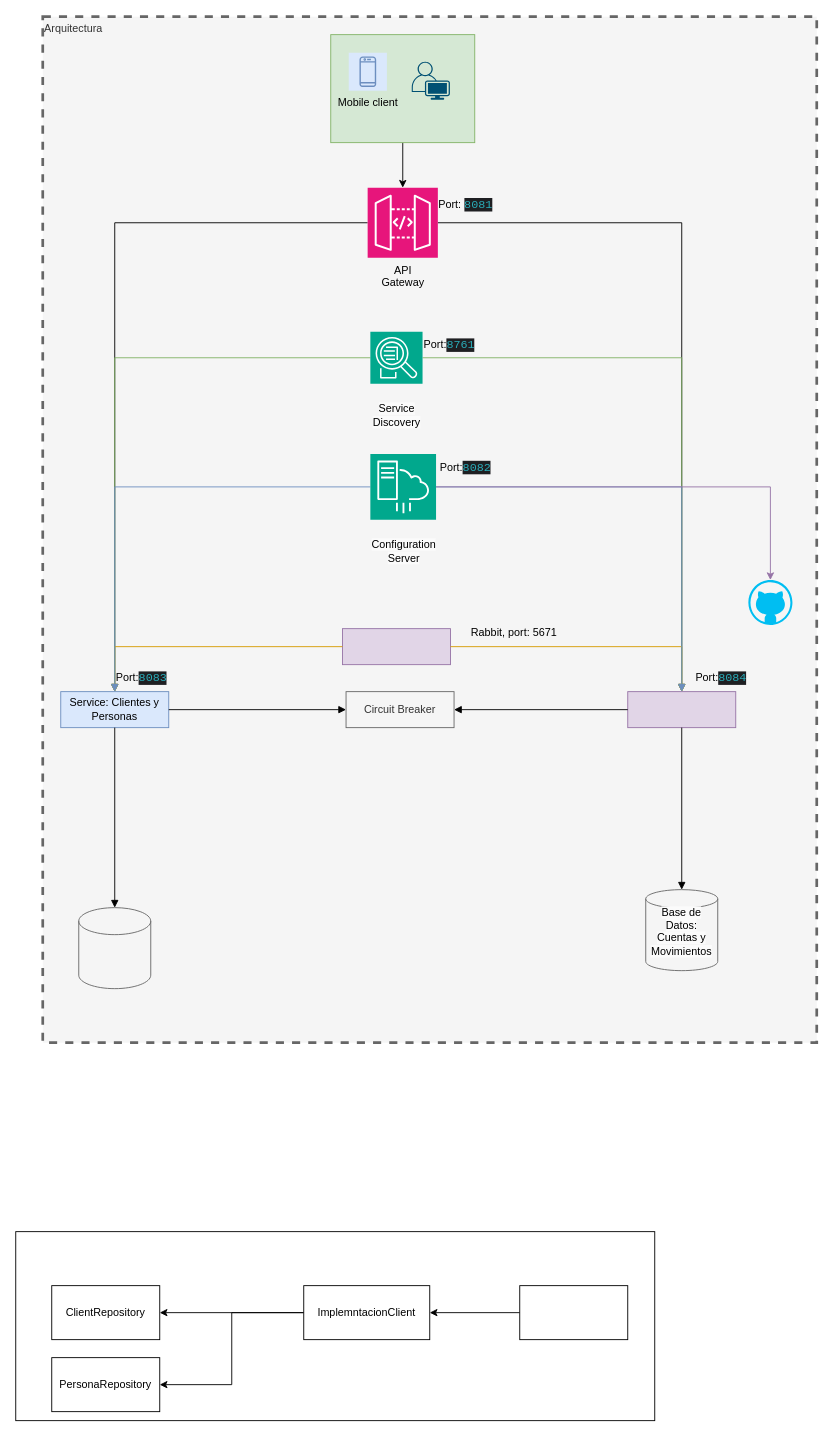
Image size: 833x1436. Some labels were removed from this diagram. The centre of each missing label's shape, as x and y in pixels:
"Base de Datos: Clientes y Personas" goes at (x=114, y=948).
"ClienteController" goes at (x=573, y=1312).
"Message Broker" goes at (x=396, y=646).
"Repositorio" goes at (x=770, y=602).
"Service: Cuentas y Movimientos" goes at (x=681, y=709).
